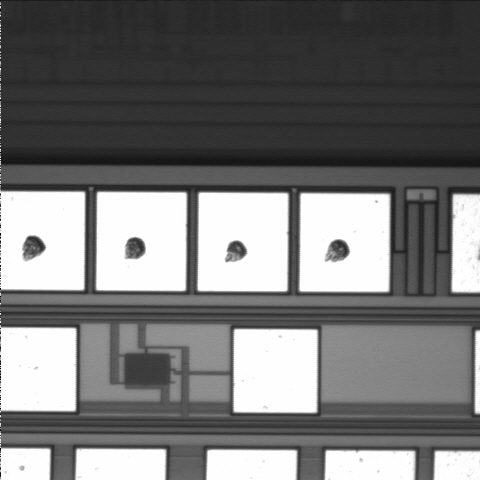pad: (96, 192, 186, 291), (300, 193, 390, 292), (198, 193, 288, 291), (234, 329, 317, 413)
